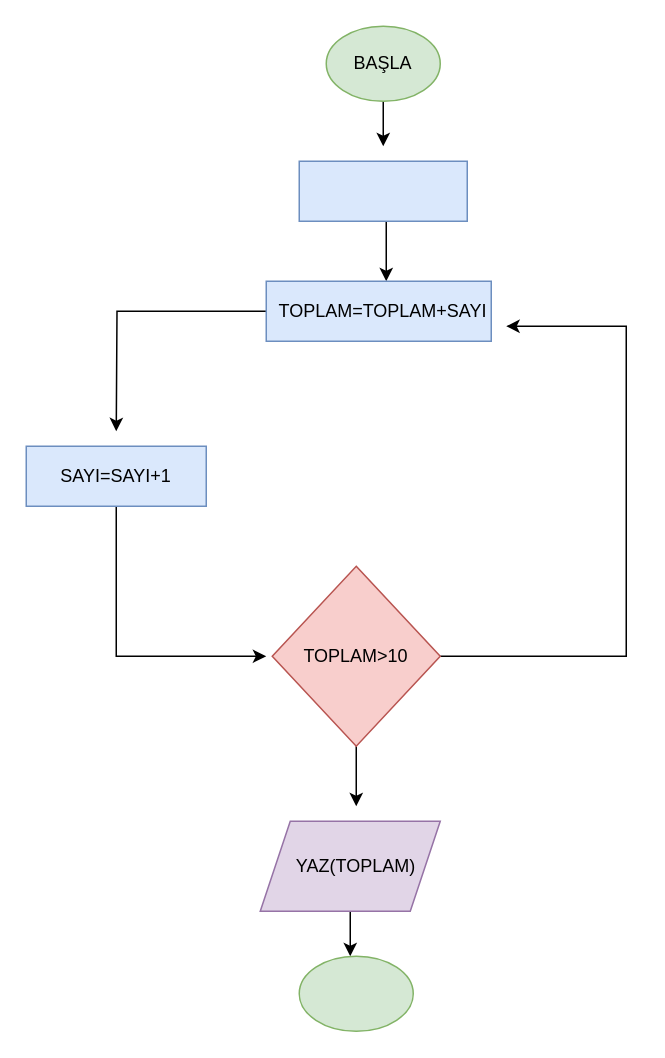
Image size: 665x1058. Some labels were removed from this diagram. The shapes that lost their labels are listed below. From the top down, each one's centre as x and y in pixels, then its label:
At pixel 382 190: "TOPLAM=0 SAYI=1".
At pixel 355 993: "DUR".
